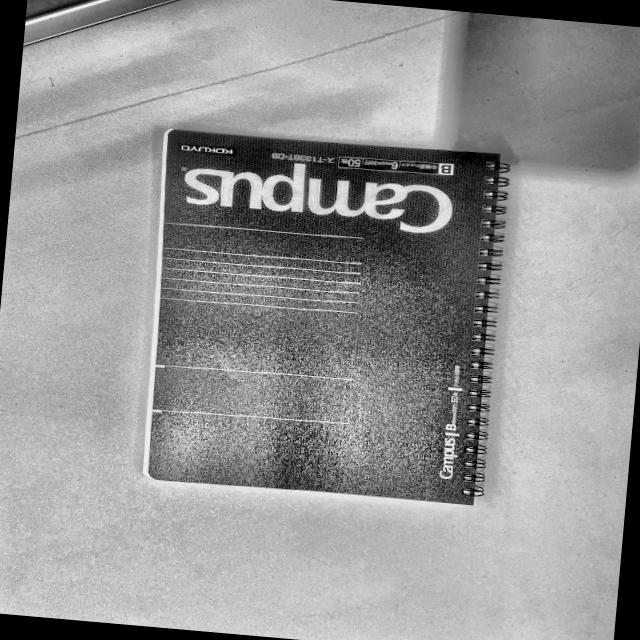Notebook: (85, 102, 553, 526)
